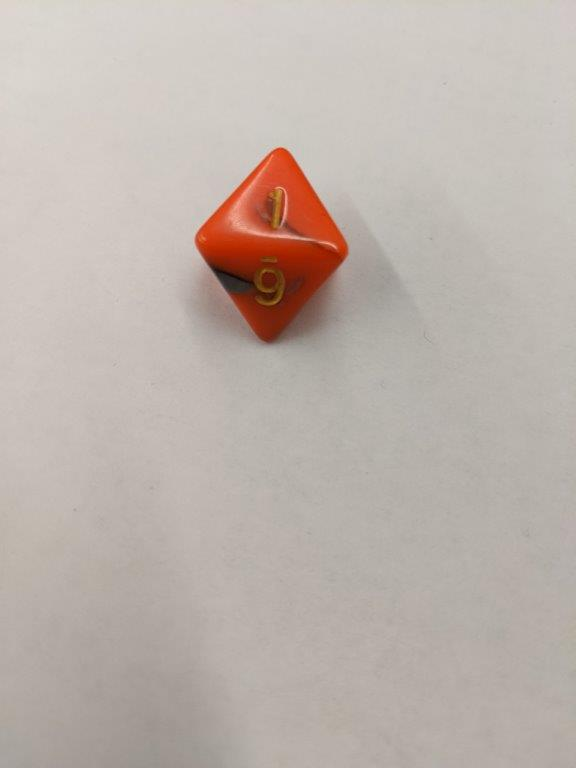d8-1: (195, 146, 349, 343)
